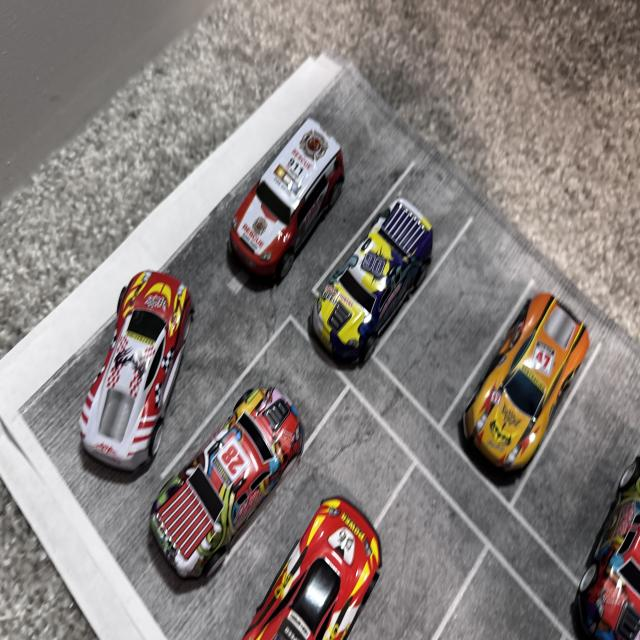car: (152, 361, 296, 583), (211, 483, 407, 640), (100, 252, 206, 518), (468, 281, 586, 491), (304, 210, 439, 384), (223, 130, 345, 274), (559, 429, 640, 640)
